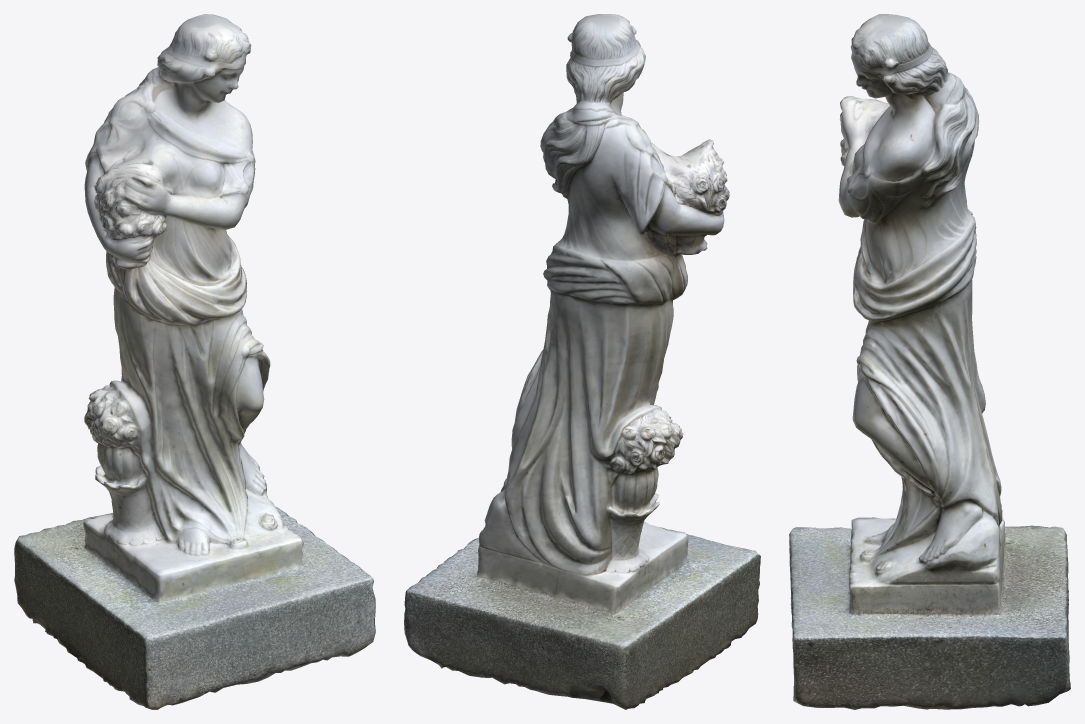
Rendered from etatua.glb.
3 views of the same model, side by side, from view 1: azimuth 30°, elevation 25°; view 2: azimuth 150°, elevation 25°; view 3: azimuth 270°, elevation 25° (orthographic). The views are drawn at different scales.
Visible parts, largest first — view 1: ObjectCapture; view 2: ObjectCapture; view 3: ObjectCapture.
Part boxes in pixels (left/top/right/bottom): ObjectCapture: left=14, top=14, right=375, bottom=709; ObjectCapture: left=404, top=14, right=760, bottom=709; ObjectCapture: left=789, top=14, right=1070, bottom=709.
Size of the model in its own units: 1.06 by 2.72 by 1.09.
Materials: 1 (1 with a texture image).
